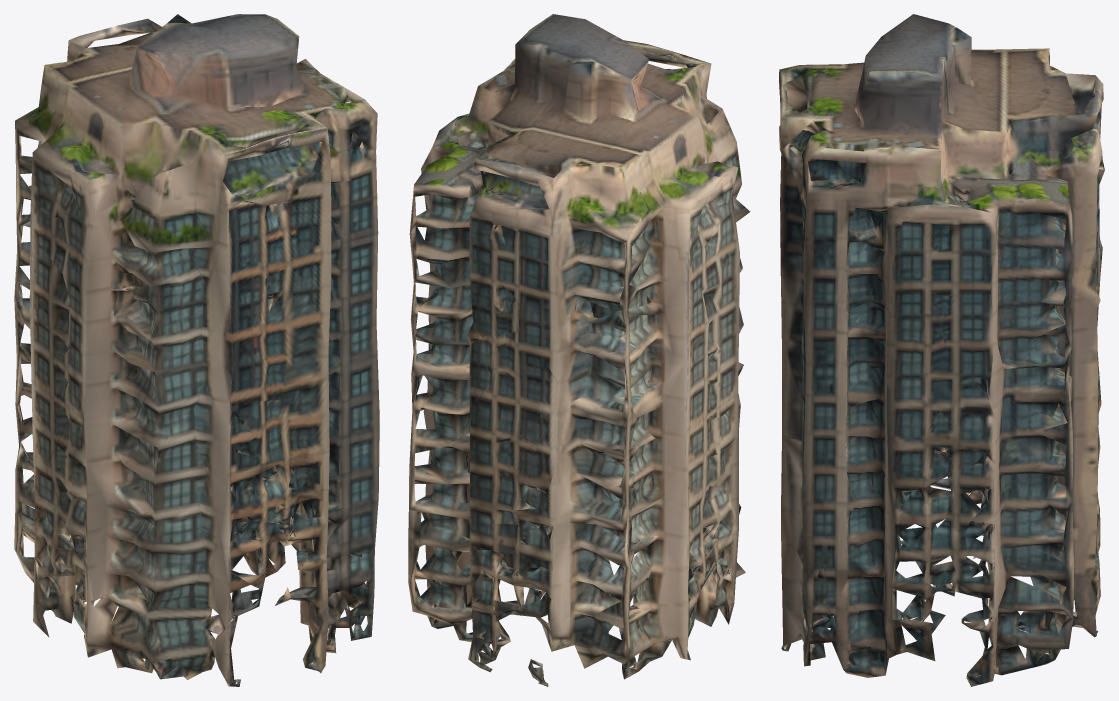
Rendered from KR_Residence_01.glb.
The picture shows the model from 3 angles, left to right: view 1: azimuth 30°, elevation 25°; view 2: azimuth 150°, elevation 25°; view 3: azimuth 270°, elevation 25°; orthographic projection. The views are drawn at different scales.
Visible parts, largest first — view 1: texture_mapping; view 2: texture_mapping; view 3: texture_mapping.
Part boxes in pixels (box(x1,y1,x2,y2)): texture_mapping: box(14, 14, 379, 686); texture_mapping: box(408, 14, 750, 686); texture_mapping: box(779, 14, 1104, 686).
Bounding box in the file's own units: 0.4988 × 1.02 × 0.507.
1 material, 1 textured.
